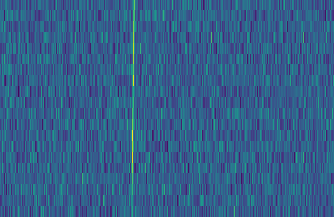signal: (126, 0, 137, 217)
